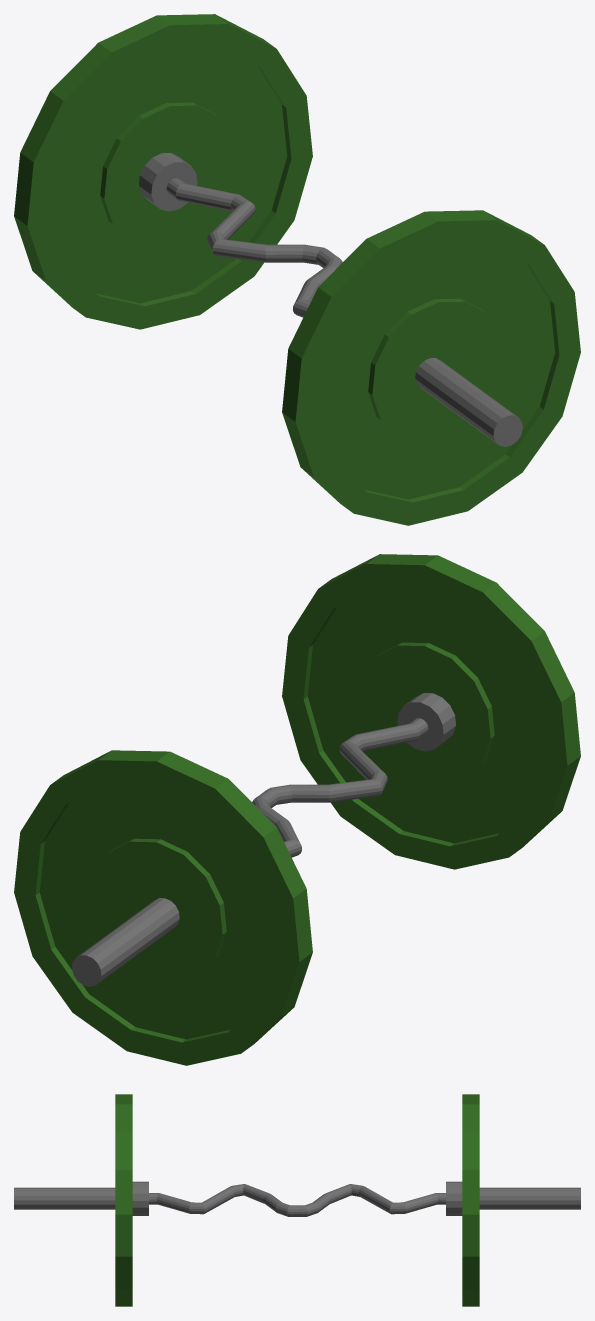
File: CurlBarbell.fbx
3 views of the same model, one above another, from view 1: azimuth 30°, elevation 25°; view 2: azimuth 150°, elevation 25°; view 3: azimuth 270°, elevation 25° (orthographic). The views are drawn at different scales.
Visible parts, largest first — view 1: CurlBarbell; view 2: CurlBarbell; view 3: CurlBarbell.
Boxes of the visible parts, x1=… form: CurlBarbell: x1=14, y1=14, x2=580, y2=525; CurlBarbell: x1=14, y1=554, x2=580, y2=1065; CurlBarbell: x1=14, y1=1094, x2=580, y2=1306.
Size of the model in its own units: 44.52 by 44.28 by 118.
